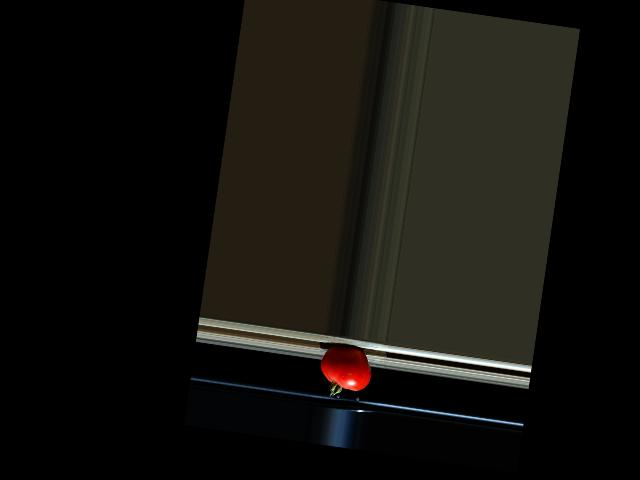tomato: (316, 342, 374, 401)
